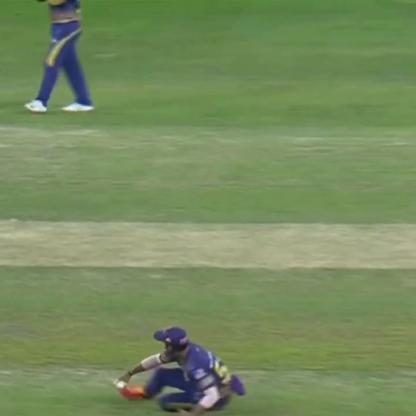ball: (108, 375, 130, 394)
